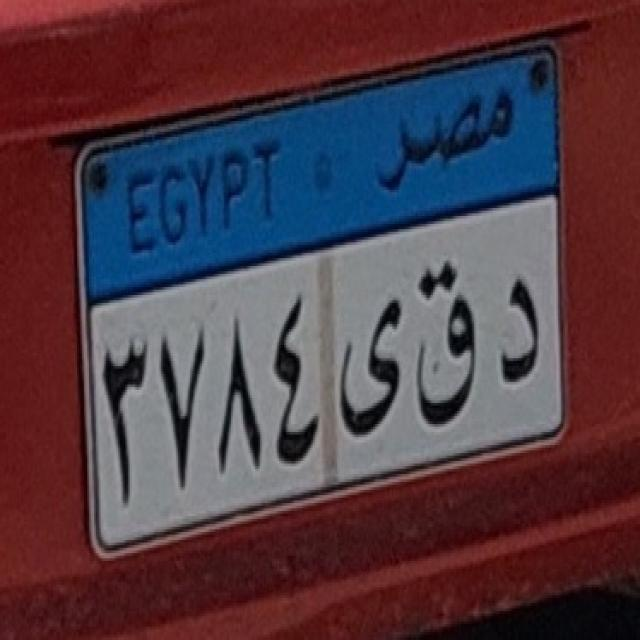3: (91, 322, 159, 513)
4: (267, 290, 325, 473)
7: (150, 318, 219, 492)
8: (216, 311, 273, 483)
Taa: (411, 262, 483, 432)
Yeeh: (336, 284, 409, 444)
daal: (496, 264, 547, 401)
